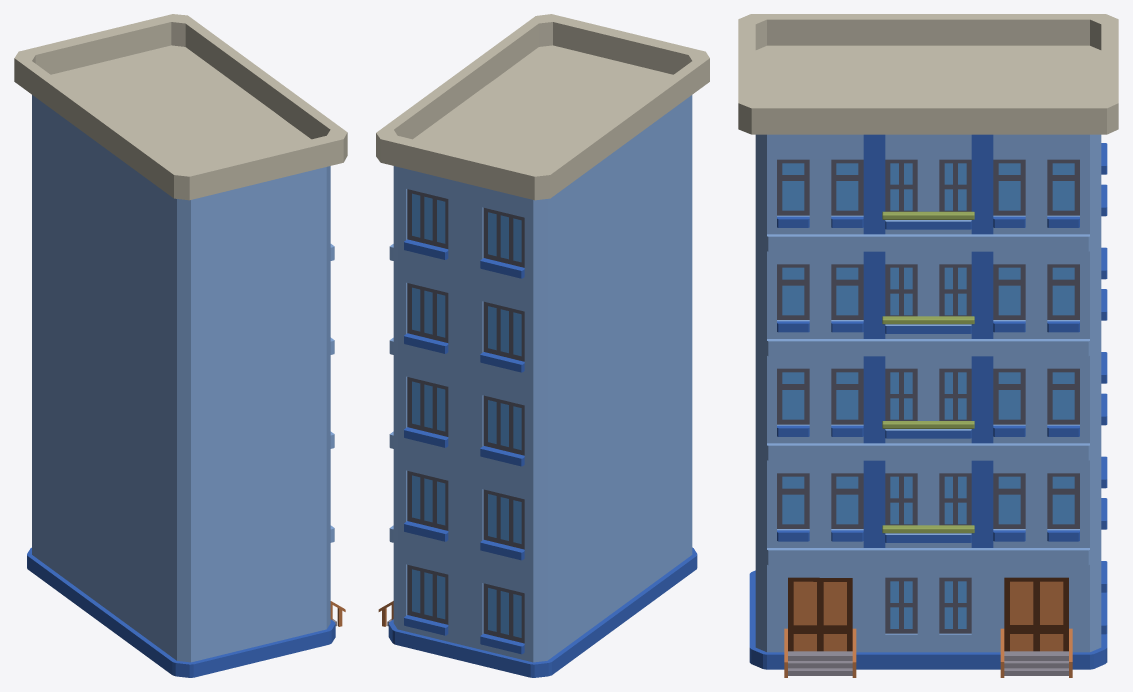
The picture shows the model from 3 angles, left to right: view 1: azimuth 30°, elevation 25°; view 2: azimuth 150°, elevation 25°; view 3: azimuth 270°, elevation 25°; orthographic projection. The views are drawn at different scales.
Parts seen in each view (by area): view 1: Predio 1.001; view 2: Predio 1.001; view 3: Predio 1.001.
Part boxes in pixels (<box>): Predio 1.001: <box>14,14,347,677</box>; Predio 1.001: <box>376,14,709,677</box>; Predio 1.001: <box>738,14,1118,677</box>.
Size of the model in its own units: 4164 by 10800 by 6600.
